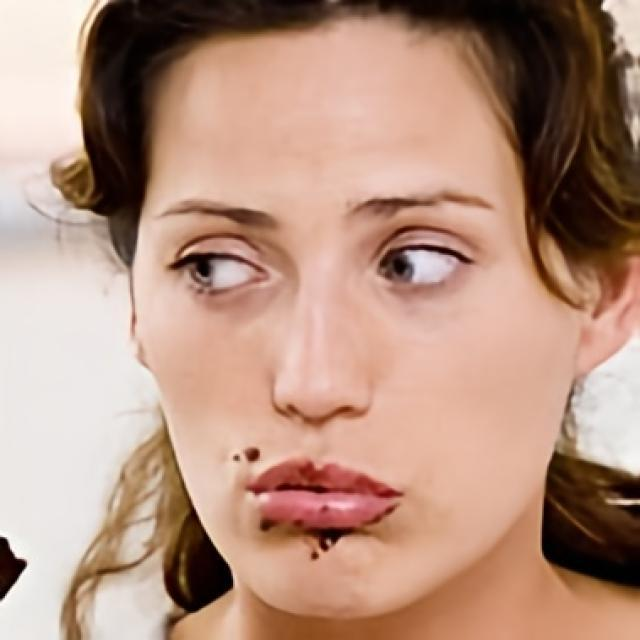sad: (128, 9, 572, 622)
